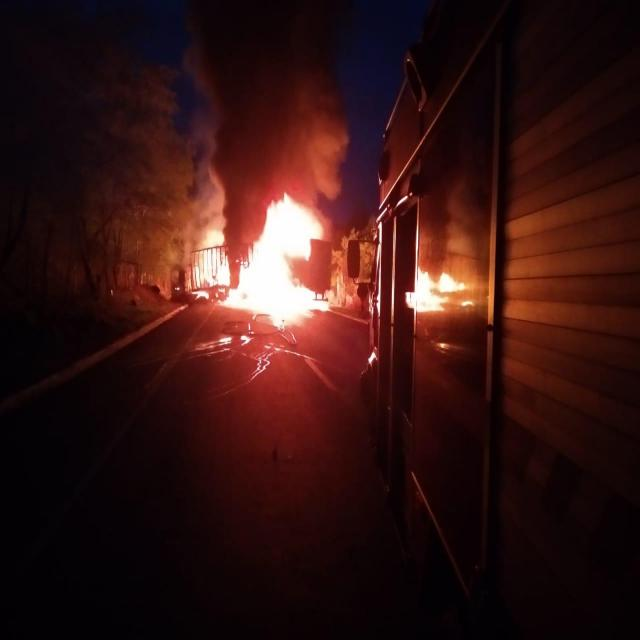fire: (219, 188, 335, 335), (182, 177, 228, 297)
